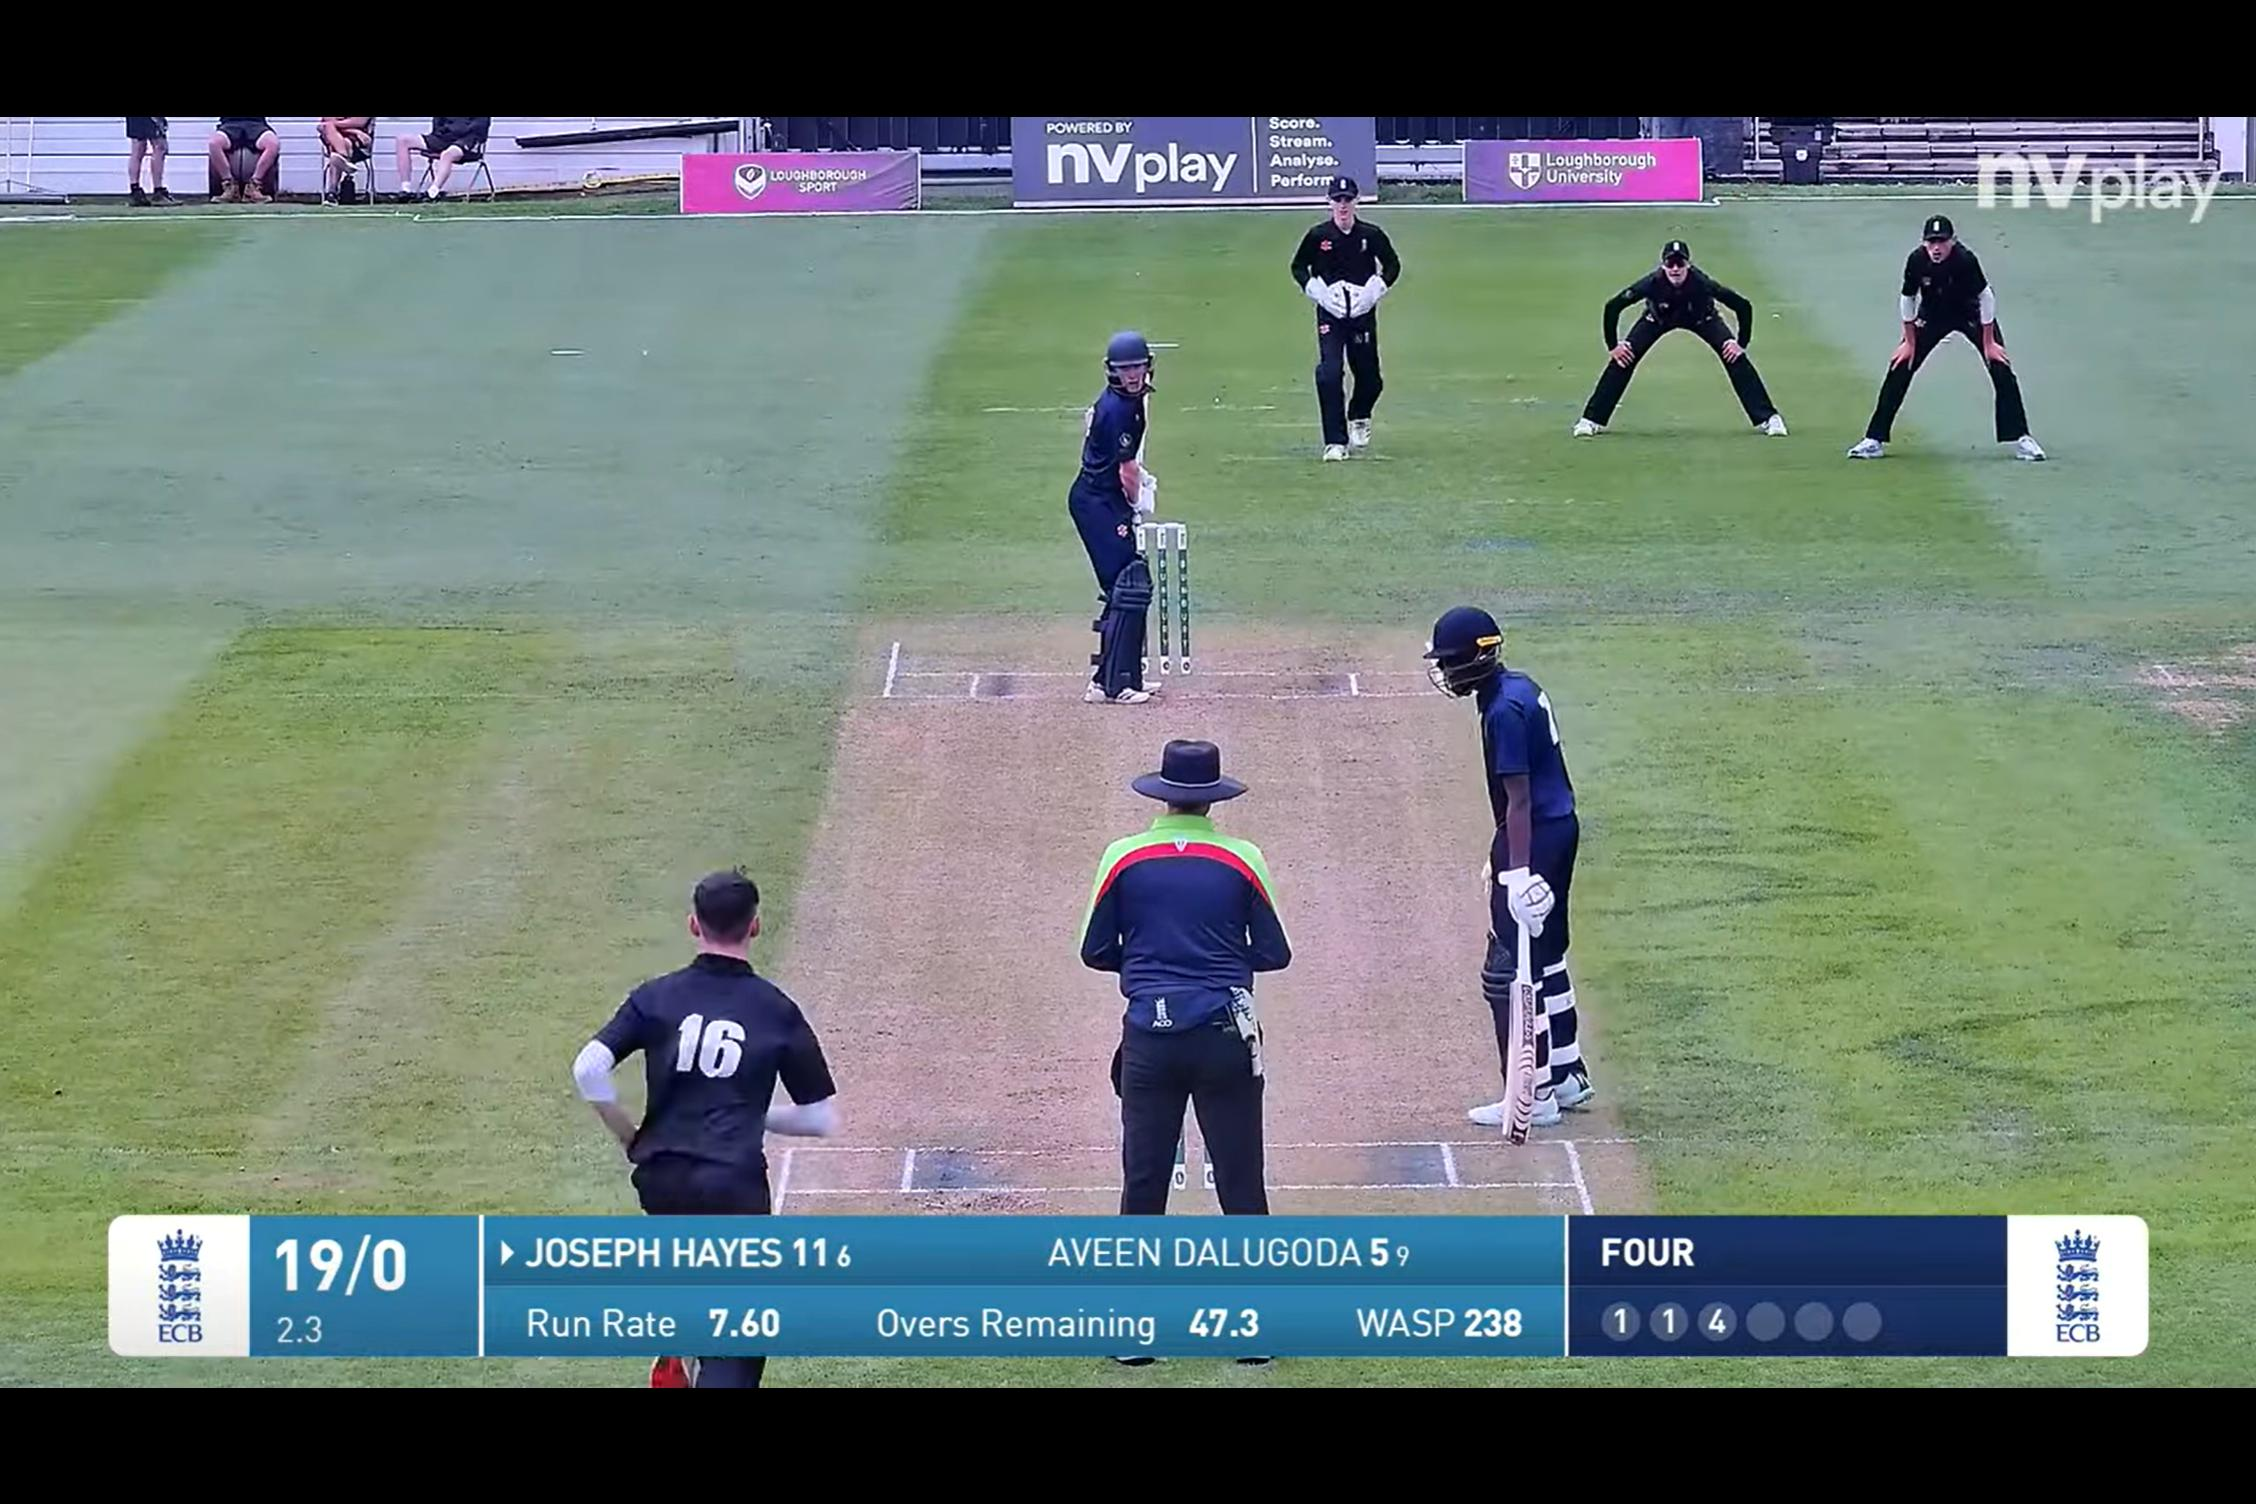batsman: (1063, 317, 1190, 715)
bowler running in: (540, 863, 871, 1214)
non striker: (1412, 566, 1606, 1168)
umpire: (1071, 734, 1324, 1214)
wicket keeper: (1271, 176, 1447, 460)
